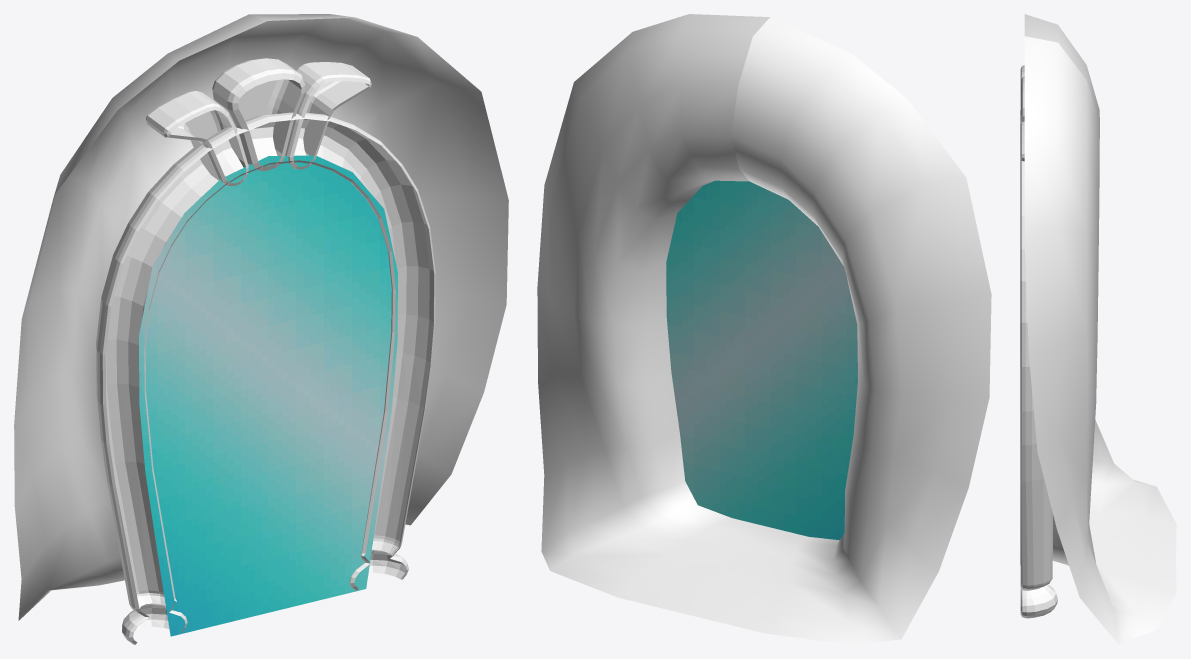
The model's file is Portal_Blue2.fbx.
The picture shows the model from 3 angles, left to right: view 1: azimuth 30°, elevation 25°; view 2: azimuth 150°, elevation 25°; view 3: azimuth 270°, elevation 25°; orthographic projection. The views are drawn at different scales.
Visible parts, largest first — view 1: m_wizard_portal_02, ms_pfx_Teleport_1, m_wizard_portal_01; view 2: ms_pfx_Teleport_1, m_wizard_portal_02; view 3: ms_pfx_Teleport_1, m_wizard_portal_01.
Part boxes in pixels (bbox=[...]): m_wizard_portal_02: bbox=[139, 155, 397, 636]; ms_pfx_Teleport_1: bbox=[14, 14, 508, 620]; m_wizard_portal_01: bbox=[96, 58, 435, 644]; ms_pfx_Teleport_1: bbox=[537, 14, 991, 644]; m_wizard_portal_02: bbox=[666, 180, 857, 540]; ms_pfx_Teleport_1: bbox=[1024, 14, 1176, 644]; m_wizard_portal_01: bbox=[1020, 65, 1057, 618].
Size of the model in its own units: 1.92 by 0.595 by 2.2.
3 materials, 1 textured.
